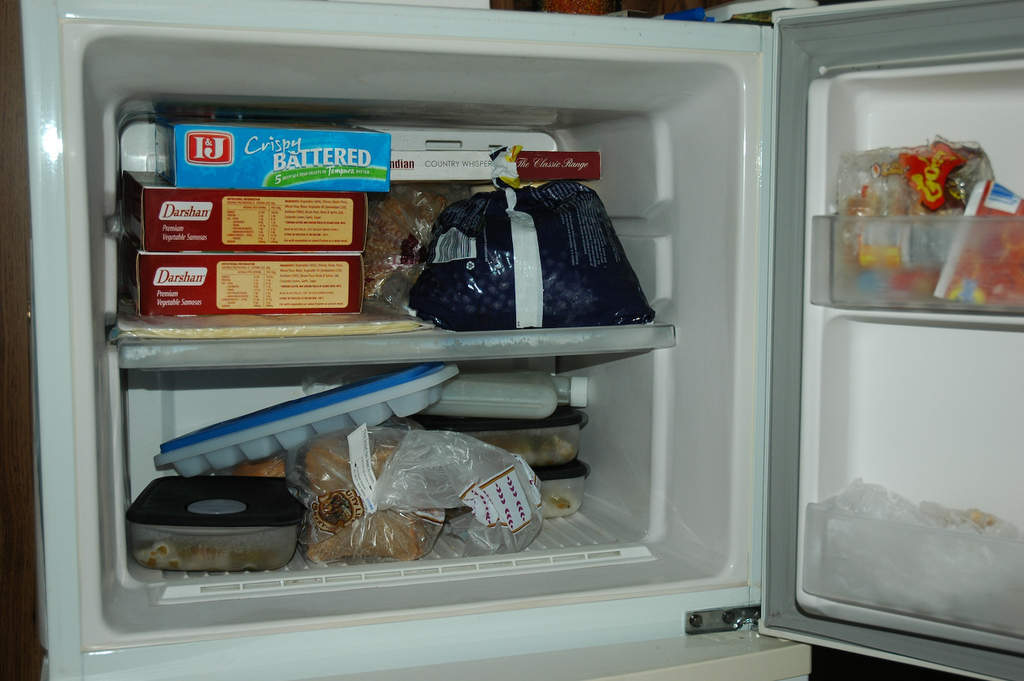refrigerator door: (802, 64, 1024, 620)
